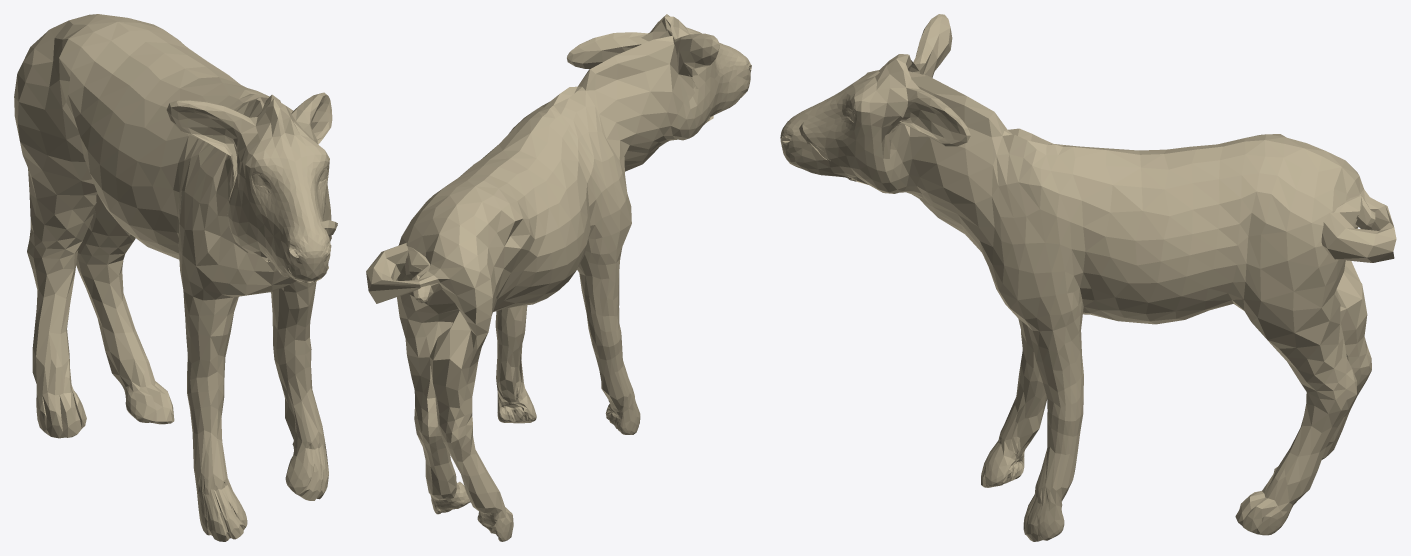
3 views of the same model, side by side, from view 1: azimuth 30°, elevation 25°; view 2: azimuth 150°, elevation 25°; view 3: azimuth 270°, elevation 25° (orthographic). The views are drawn at different scales.
Parts seen in each view (by area): view 1: world; view 2: world; view 3: world.
Boxes of the visible parts, bbox=[...] form: world: bbox=[14, 14, 337, 541]; world: bbox=[366, 14, 751, 541]; world: bbox=[780, 14, 1396, 541].
Bounding box in the file's own units: 0.6532 × 1.41 × 1.75.
